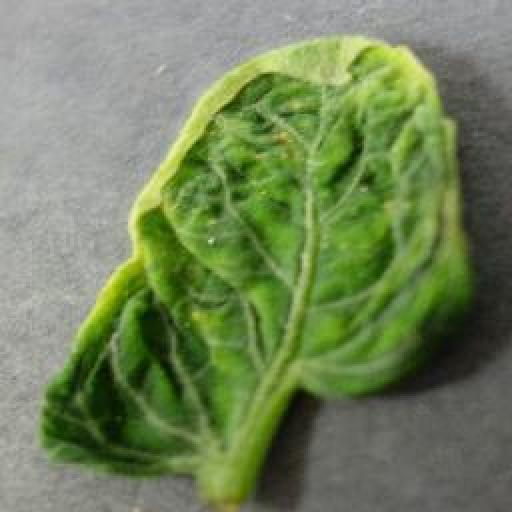disease_tomato: (37, 33, 476, 484)
